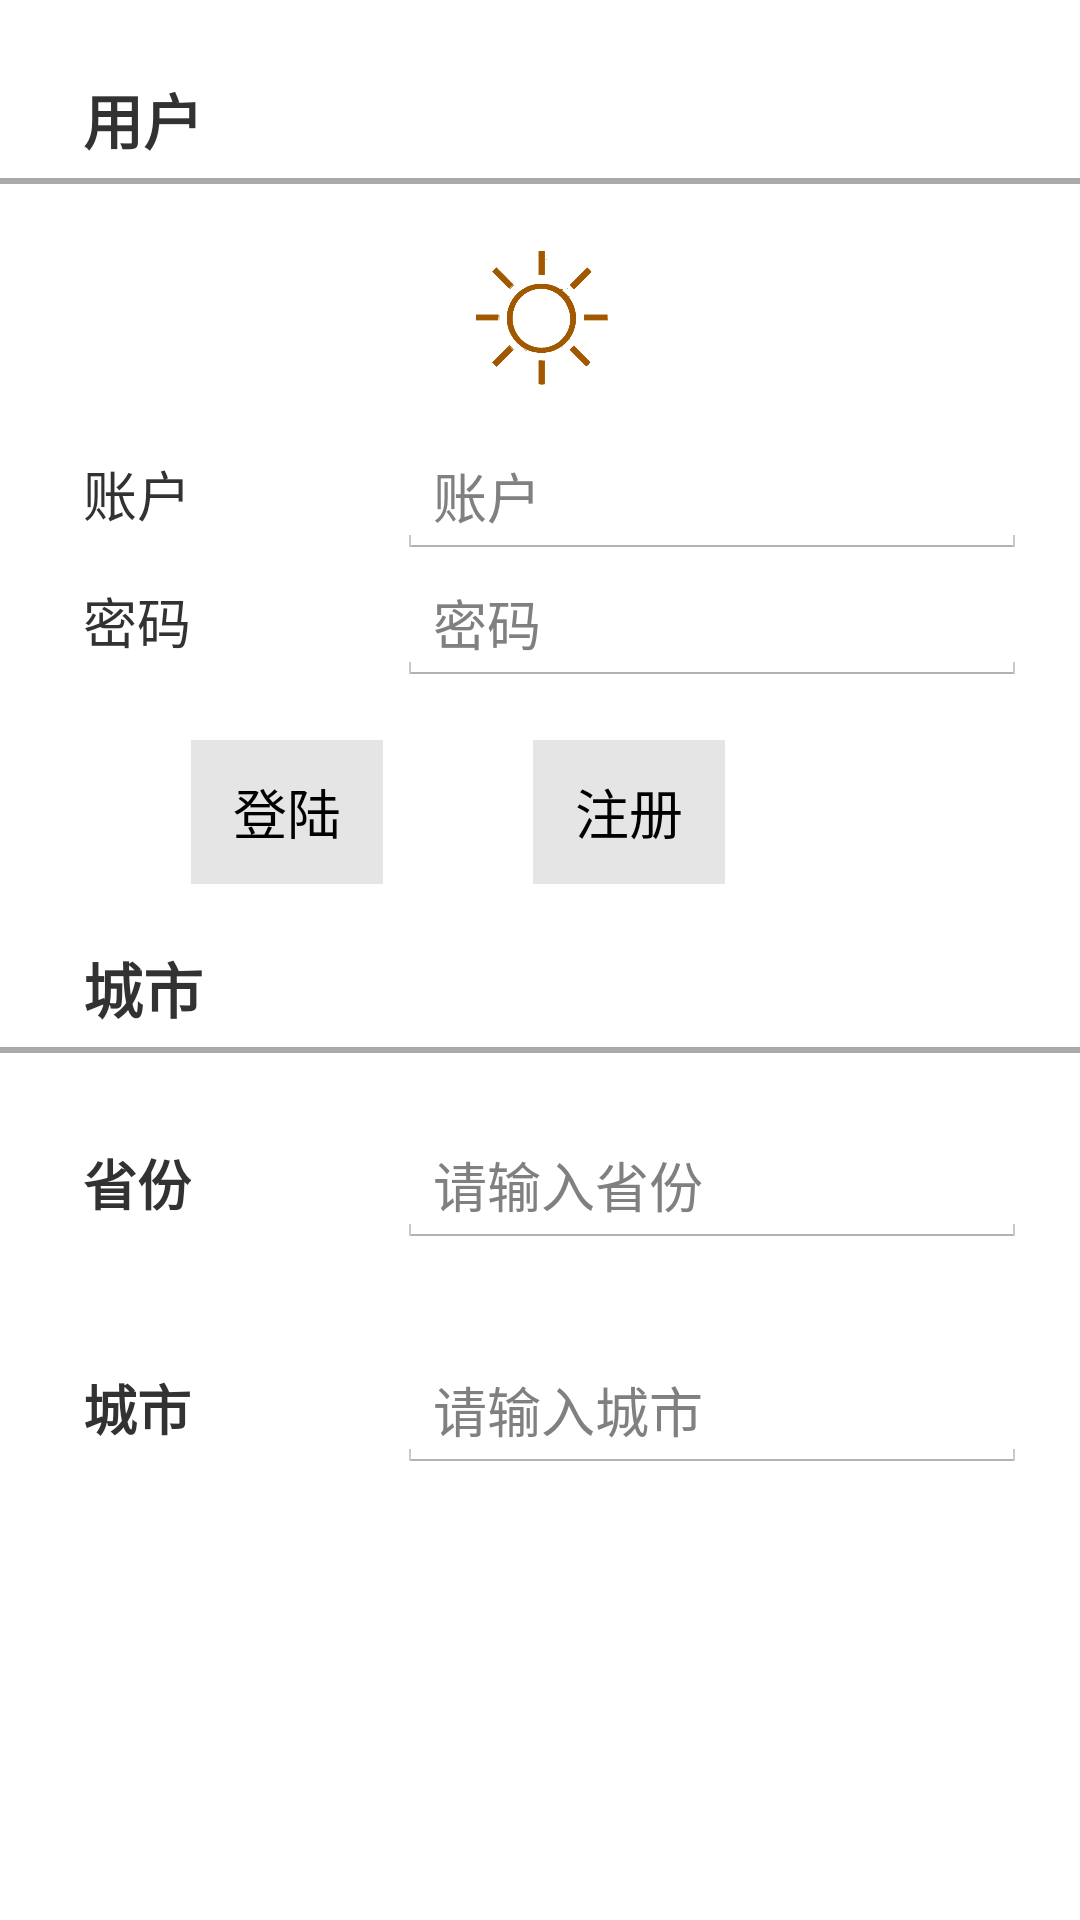

Icon bounding boxes for this 1080*1920 phone screenshot, format [x1=x1, y1=y1, x2=x2, y2=y2]:
qingtian: [x1=476, y1=251, x2=608, y2=385]
